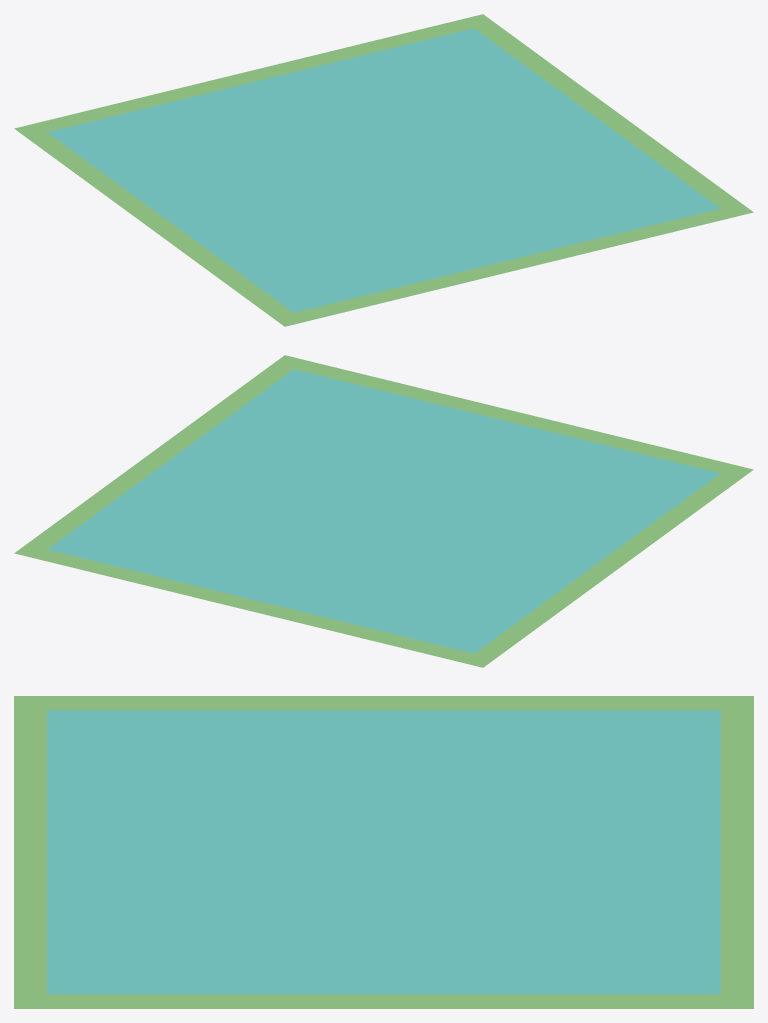
Rendered from RoomCeilingLight.fbx.
The picture shows the model from 3 angles, top to bottom: view 1: azimuth 30°, elevation 25°; view 2: azimuth 150°, elevation 25°; view 3: azimuth 270°, elevation 25°; orthographic projection. The views are drawn at different scales.
Parts seen in each view (by area): view 1: Room_Ceiling_Light; view 2: Room_Ceiling_Light; view 3: Room_Ceiling_Light.
Part boxes in pixels (x1,y1,x2,y2): Room_Ceiling_Light: [14, 14, 753, 326]; Room_Ceiling_Light: [14, 355, 753, 667]; Room_Ceiling_Light: [14, 696, 753, 1008].
Bounding box in the file's own units: 2 × 8.74e-08 × 2.
